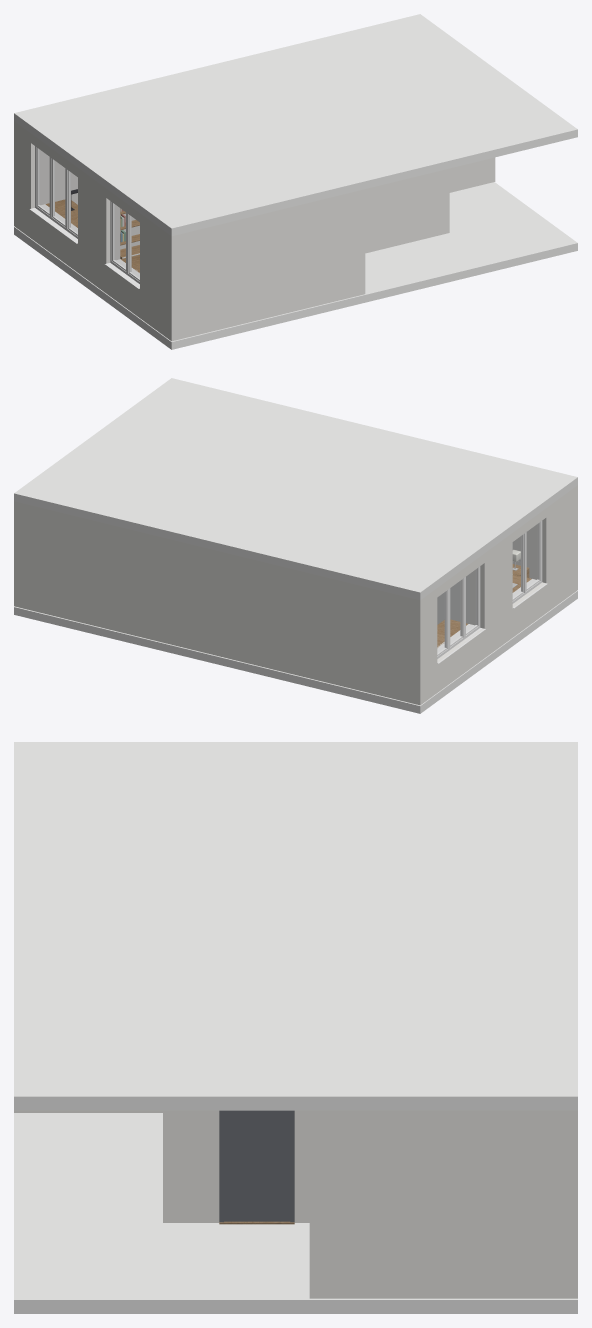
The model's file is korobka.glb.
The picture shows the model from 3 angles, top to bottom: view 1: azimuth 30°, elevation 25°; view 2: azimuth 150°, elevation 25°; view 3: azimuth 270°, elevation 25°; orthographic projection. The views are drawn at different scales.
Visible parts, largest first — view 1: Стеля, Стіна нижня, Плита перекриття низ, Стіна нижня коридору, Стіна ліва простінок 1312, Стіна ліва простінок 1096, Стіна верхня, Стіна ліва простінок 413, В1 стіна під вікном, В2 стіна під вікном, Стіна нижня санвузла 184, В2 скло 1 (+5 smaller); view 2: Стеля, Стіна верхня, Плита перекриття низ, Стіна ліва простінок 1312, Стіна ліва простінок 1096, В1 стіна під вікном, Стіна нижня, В2 стіна під вікном, Стіна ліва простінок 413, Перегородка дитяча-спальня, В1 скло 3, В2 скло 2 (+4 smaller); view 3: Стеля, Плита перекриття низ, Стіна права санвузла, Д1 полотно, Стіна верхня, Простінок 468, Стіна нижня коридору, Простінок 518.
Part boxes in pixels (box(x1,y1,x2,y2)): Стеля: box(14, 14, 577, 236); Стіна нижня: box(163, 189, 365, 341); Плита перекриття низ: box(14, 182, 577, 349); Стіна нижня коридору: box(365, 168, 449, 253); Стіна ліва простінок 1312: box(78, 168, 120, 292); Стіна ліва простінок 1096: box(140, 213, 163, 335); Стіна верхня: box(14, 121, 77, 231); Стіна ліва простінок 413: box(22, 127, 44, 237); В1 стіна під вікном: box(31, 211, 77, 272); В2 стіна під вікном: box(106, 266, 139, 317); Стіна нижня санвузла 184: box(449, 161, 481, 192); В2 скло 1: box(114, 204, 125, 267); Стеля: box(14, 378, 577, 600); Стіна верхня: box(14, 501, 428, 705); Плита перекриття низ: box(14, 590, 577, 713); Стіна ліва простінок 1312: box(470, 533, 512, 657); Стіна ліва простінок 1096: box(532, 491, 569, 612); В1 стіна під вікном: box(437, 628, 484, 692); Стіна нижня: box(512, 485, 577, 595); В2 стіна під вікном: box(512, 582, 546, 637); Стіна ліва простінок 413: box(428, 588, 437, 699); Перегородка дитяча-спальня: box(437, 574, 470, 624); В1 скло 3: box(466, 569, 476, 632); В2 скло 2: box(527, 524, 537, 587); Стеля: box(14, 742, 577, 1110); Плита перекриття низ: box(14, 1113, 577, 1313); Стіна права санвузла: box(309, 1110, 548, 1298); Д1 полотно: box(224, 1110, 290, 1221); Стіна верхня: box(549, 1110, 577, 1298); Простінок 468: box(183, 1110, 219, 1222); Стіна нижня коридору: box(163, 1110, 183, 1222); Простінок 518: box(294, 1110, 309, 1222).
Bounding box in the file's own units: 11.01 × 3.13 × 7.37.
Materials: 31 (10 with a texture image).
